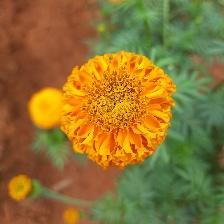marigold: (60, 50, 180, 169)
